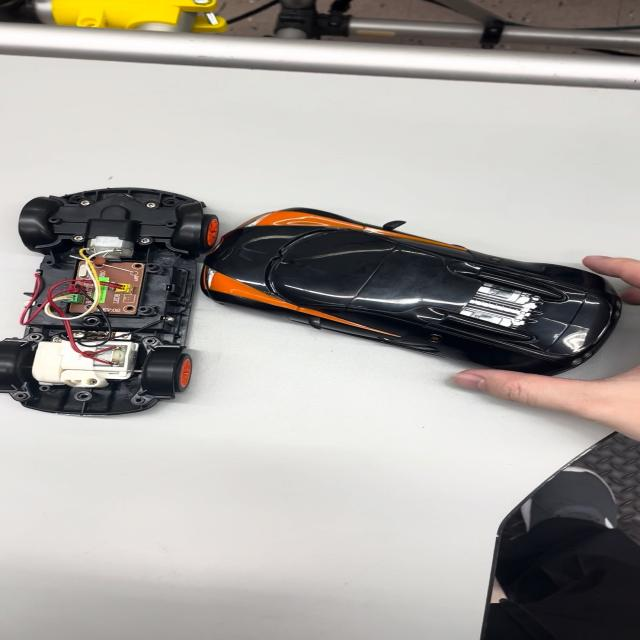Chassis: (3, 188, 216, 416)
vehicle_body: (209, 204, 622, 375)
